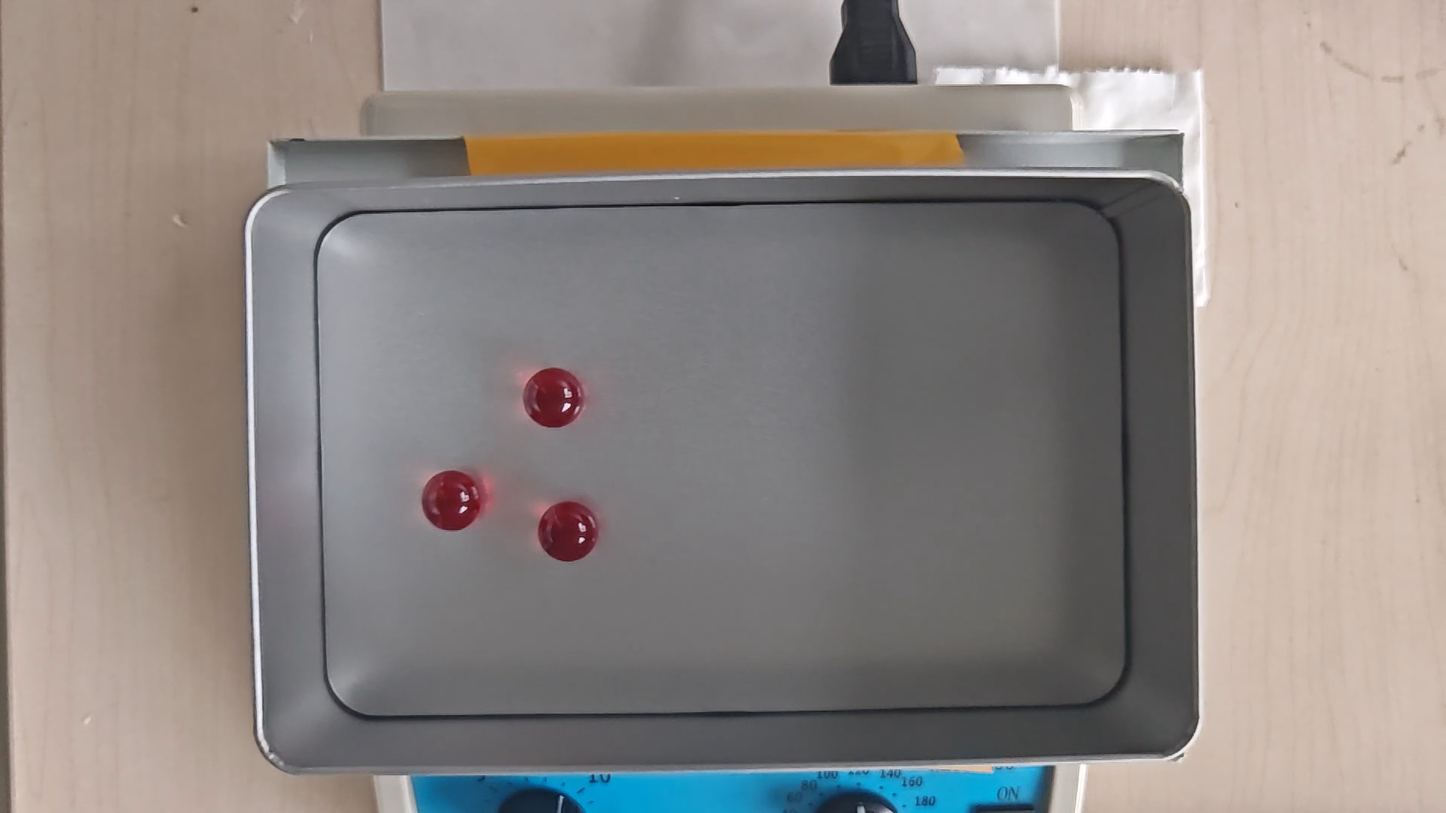ball: (421, 470, 480, 531), (538, 501, 597, 562), (525, 368, 582, 428)
container: (319, 201, 1125, 714)
